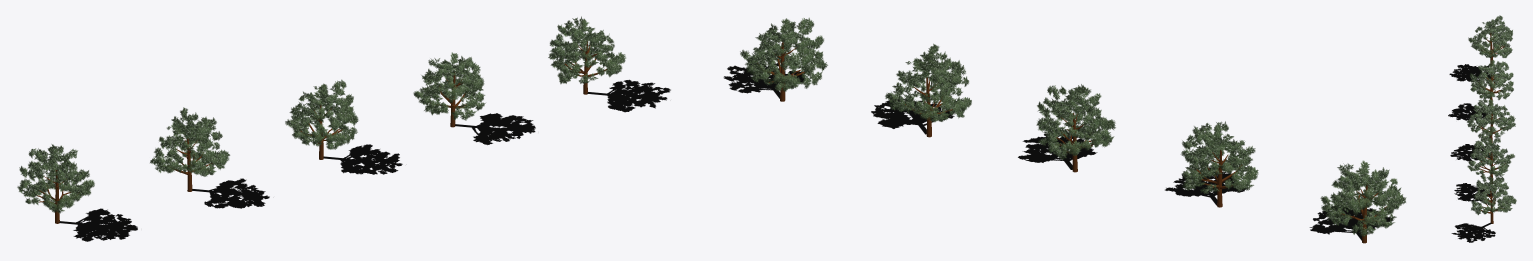
File: treelineEW.glb
The picture shows the model from 3 angles, left to right: view 1: azimuth 30°, elevation 25°; view 2: azimuth 150°, elevation 25°; view 3: azimuth 270°, elevation 25°; orthographic projection. The views are drawn at different scales.
Parts seen in each view (by area): view 1: tree0; view 2: tree0; view 3: tree0.
Boxes of the visible parts, left/top/right/bottom form: tree0: left=17, top=16, right=670, bottom=241; tree0: left=723, top=17, right=1406, bottom=243; tree0: left=1448, top=15, right=1516, bottom=242.
Bounding box in the file's own units: 121 × 13.97 × 21.9.
Materials: 7 (6 with a texture image).
